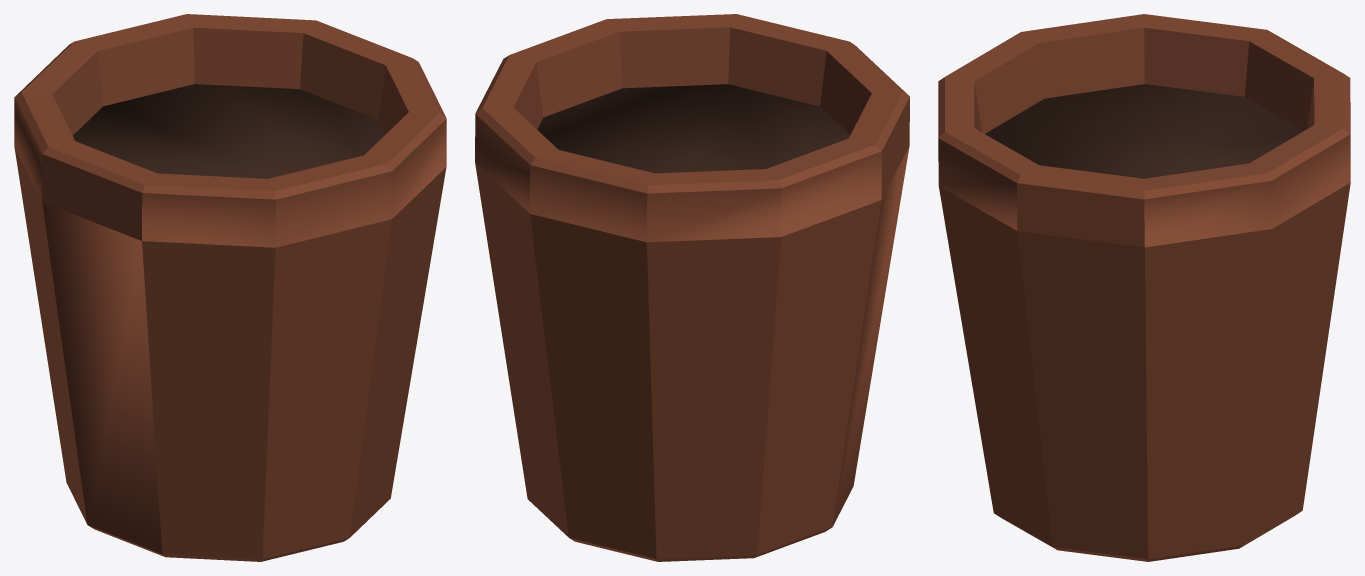
File: flowerpot_classic.fbx
3 views of the same model, side by side, from view 1: azimuth 30°, elevation 25°; view 2: azimuth 150°, elevation 25°; view 3: azimuth 270°, elevation 25° (orthographic).
Parts seen in each view (by area): view 1: flowerpot_002; view 2: flowerpot_002; view 3: flowerpot_002.
Boxes of the visible parts, <box> form: flowerpot_002: <box>14,14,446,561</box>; flowerpot_002: <box>475,14,909,561</box>; flowerpot_002: <box>938,14,1350,561</box>.
Size of the model in its own units: 29.48 by 29.82 by 28.07.
